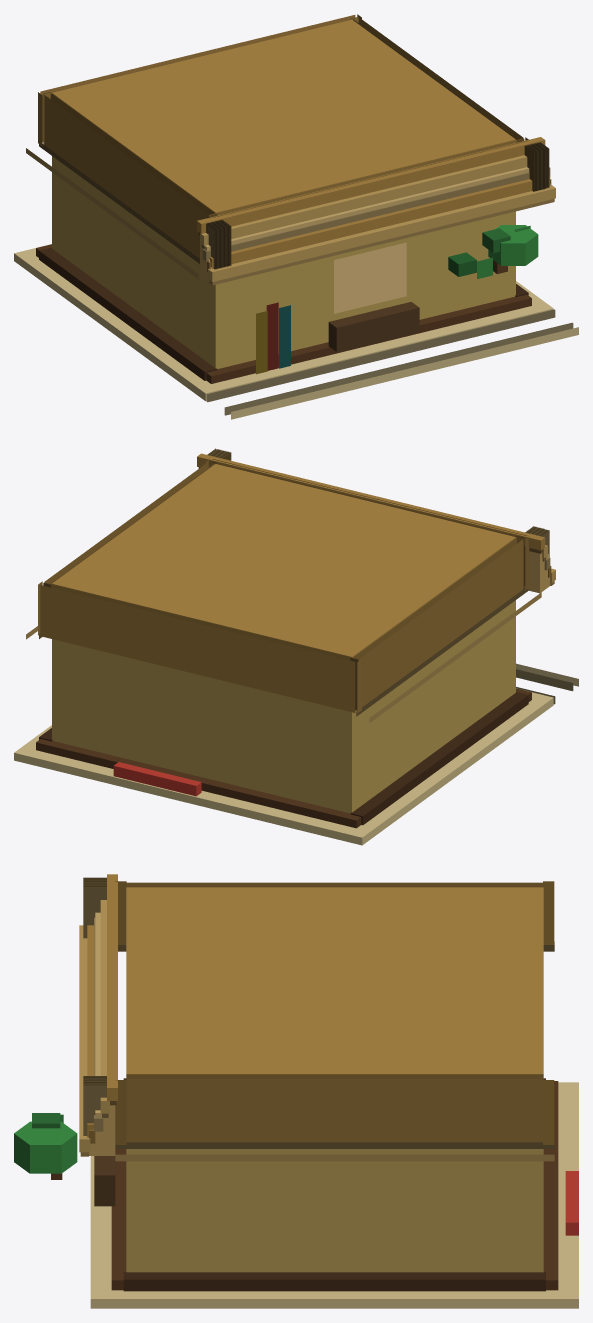
File: IslandTurtleSil.fbx
3 views of the same model, one above another, from view 1: azimuth 30°, elevation 25°; view 2: azimuth 150°, elevation 25°; view 3: azimuth 270°, elevation 25° (orthographic). The views are drawn at different scales.
Parts seen in each view (by area): view 1: IT_S_All; view 2: IT_S_All; view 3: IT_S_All.
Part boxes in pixels (x1,y1,x2,y2): IT_S_All: (14, 14, 578, 419); IT_S_All: (14, 448, 578, 845); IT_S_All: (14, 874, 578, 1308).
Bounding box in the file's own units: 42.04 × 19.9 × 46.34.
